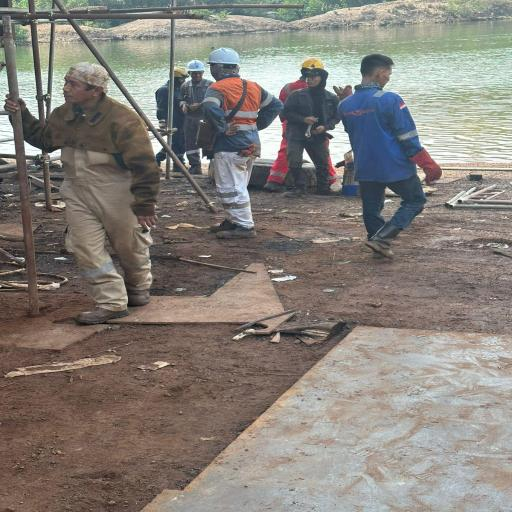safety_shoe: (366, 220, 400, 259), (72, 306, 132, 324), (124, 284, 159, 309), (217, 222, 260, 242), (213, 218, 237, 233), (284, 185, 310, 198), (314, 184, 342, 196), (180, 164, 207, 175), (264, 180, 288, 192)
